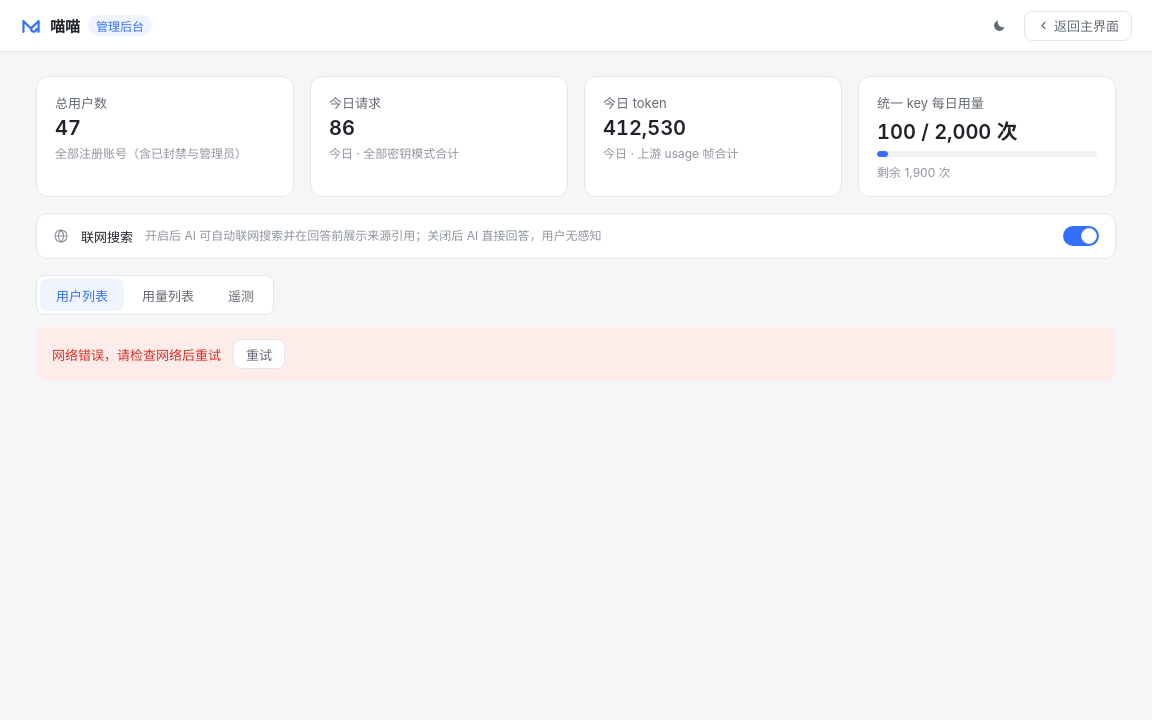
用户列表（design-iter-12 §2，REQ-025 六列与治理零回退） › 拉取失败：错误 banner + 重试（保留当前 tab）
Expected: the element with class "err-banner" shows "网络错误", [52,346,221,362]
Click the button "重试" at (259, 354), box [233,339,285,369]
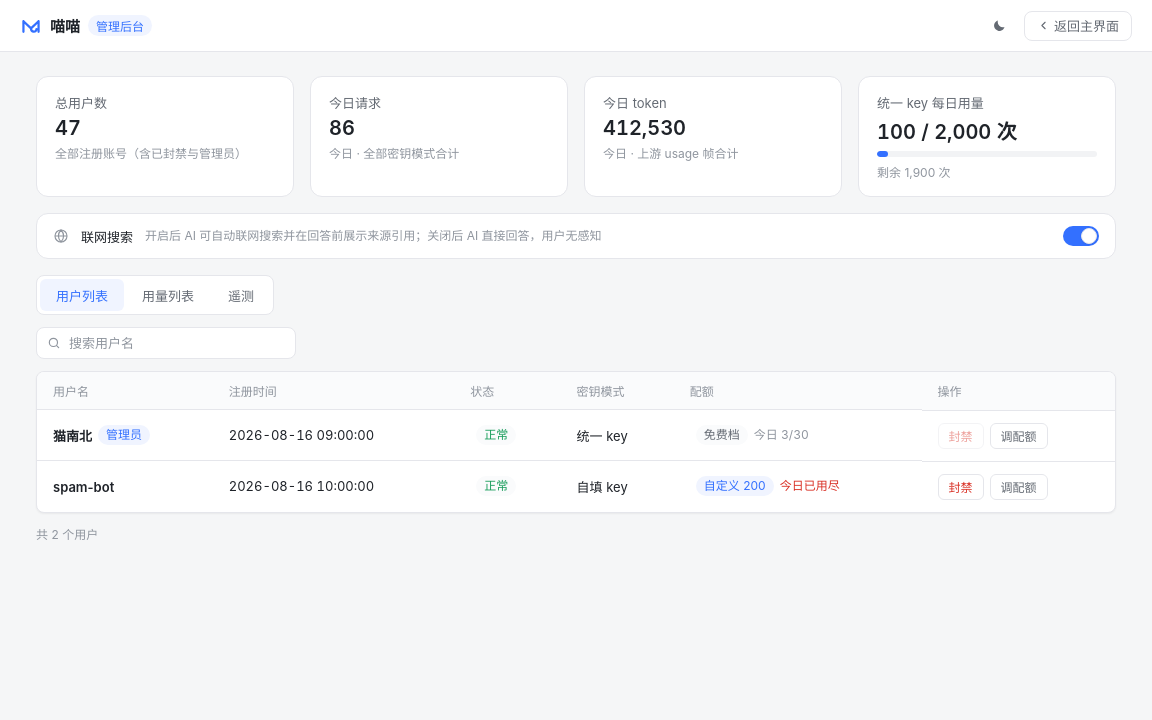
Result: the table is shown at [37,372,1115,512]
